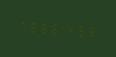eight: (37, 18, 46, 36)
five: (27, 17, 36, 35), (77, 21, 86, 38)
four: (67, 20, 76, 38)
one: (57, 19, 66, 37)
seven: (17, 17, 26, 34)
six: (47, 19, 56, 36)
two: (87, 22, 96, 39)
